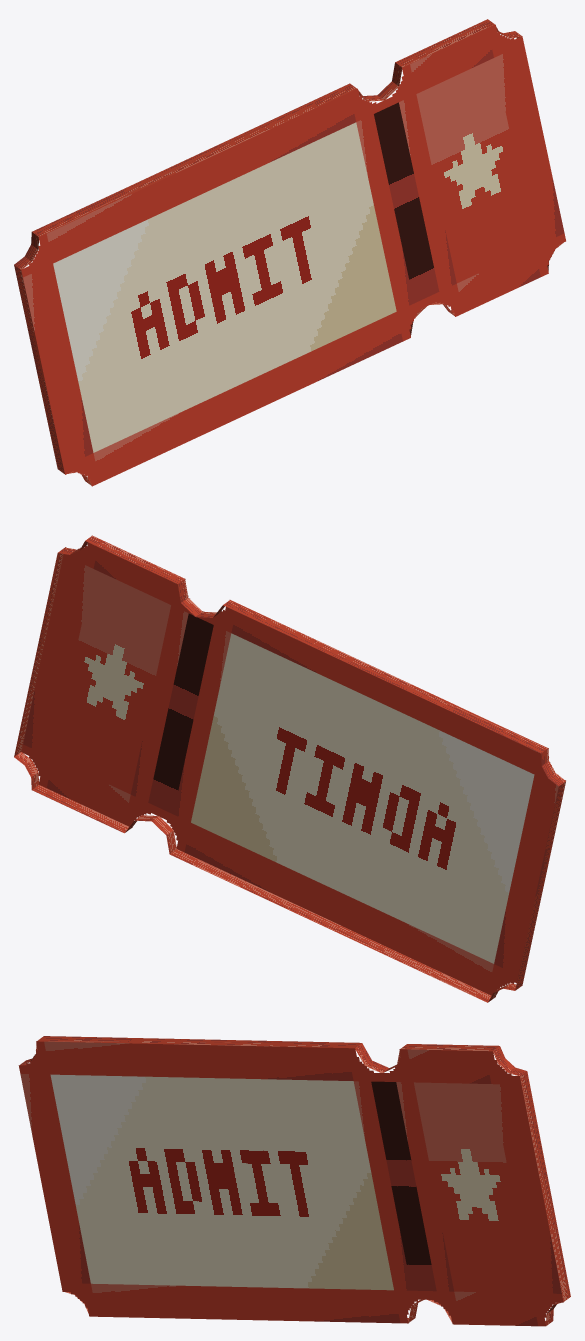
The model's file is moreB-ticketStub.glb.
The picture shows the model from 3 angles, top to bottom: view 1: azimuth 30°, elevation 25°; view 2: azimuth 150°, elevation 25°; view 3: azimuth 330°, elevation 25°; orthographic projection.
Visible parts, largest first — view 1: moreB.ticketStub; view 2: moreB.ticketStub; view 3: moreB.ticketStub.
Boxes of the visible parts, x1=… form: moreB.ticketStub: x1=14, y1=19, x2=565, y2=486; moreB.ticketStub: x1=14, y1=535, x2=565, y2=1002; moreB.ticketStub: x1=18, y1=1036, x2=570, y2=1326.
Size of the model in its own units: 1.94 by 1.25 by 0.0447.
6 materials, 6 textured.
